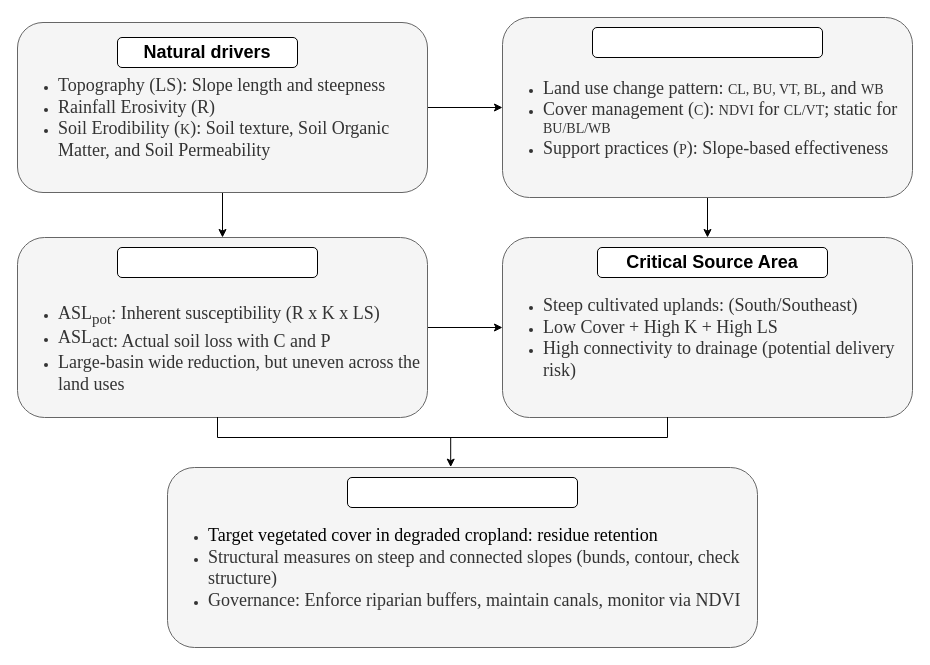
The diagram is 930 pixels wide and 665 high, and some of its shapes have lost their labels. The centre of each missing label's shape, as x and y in pixels:
"Dual-Scenario Insight" belongs at pixel 217 262.
"Human Modification" belongs at pixel 707 42.
"Management Entry Point" belongs at pixel 462 492.
